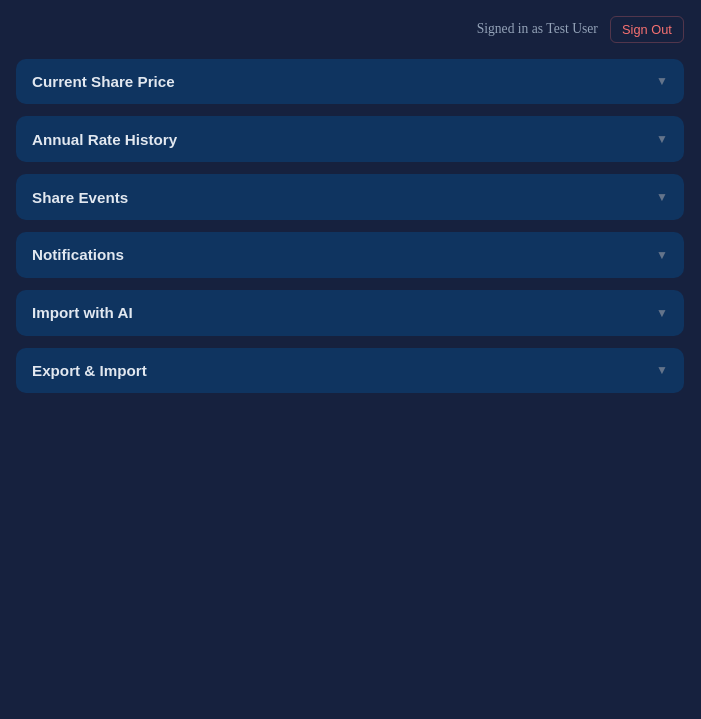
it: SettingsTab › opens AI import section and shows Copy AI Prompt button
Click the text "Import with AI": (82, 313) [32, 304, 133, 321]
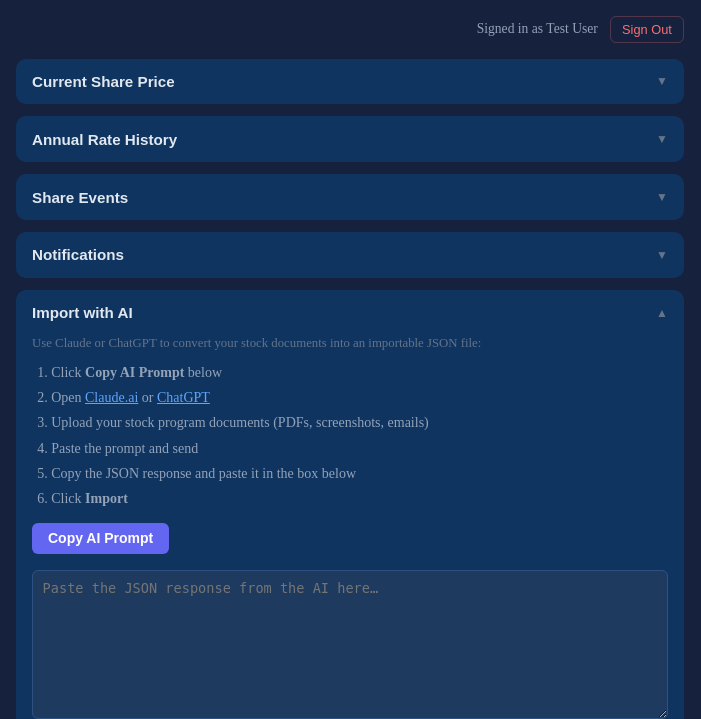
Result: the button with test id "copy-ai-prompt-btn" is shown at [32, 523, 169, 554]
